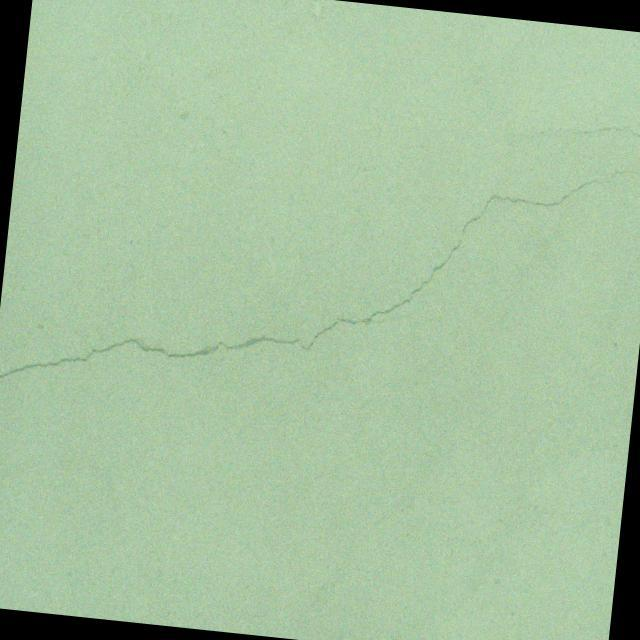crack: (0, 98, 640, 449), (539, 113, 640, 146)
